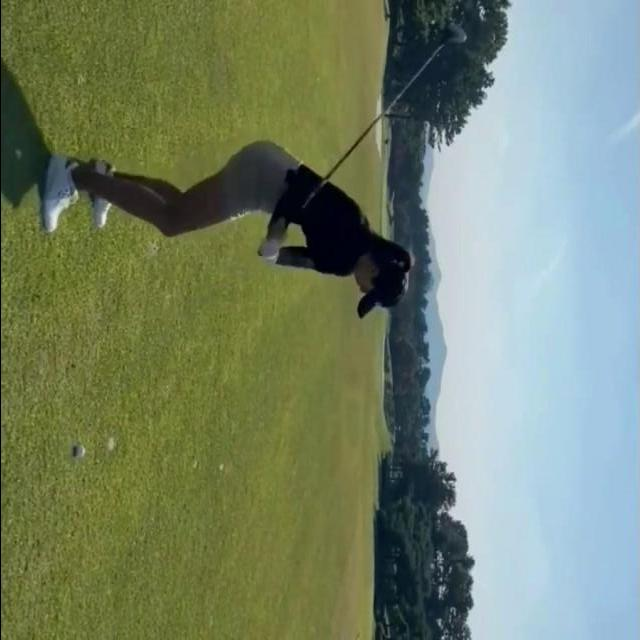golf ball: (74, 446, 84, 457)
golf club-handle: (255, 23, 465, 259)
golf club-head: (441, 23, 466, 46)
